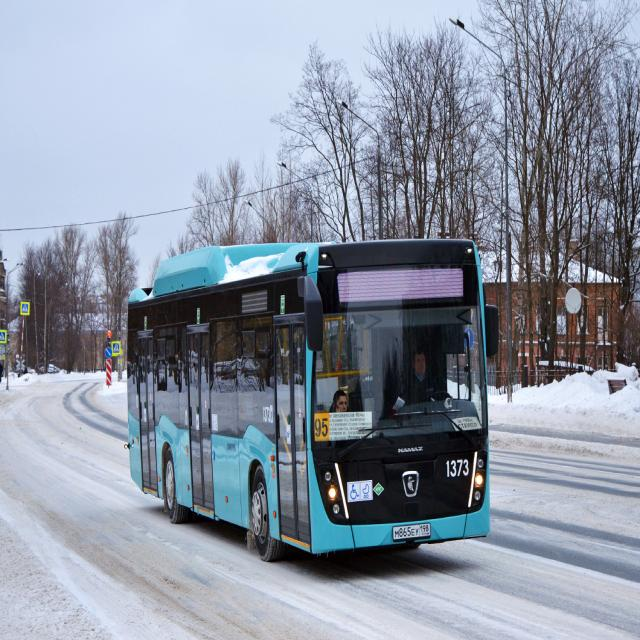number-of-bus: (315, 415, 330, 440)
